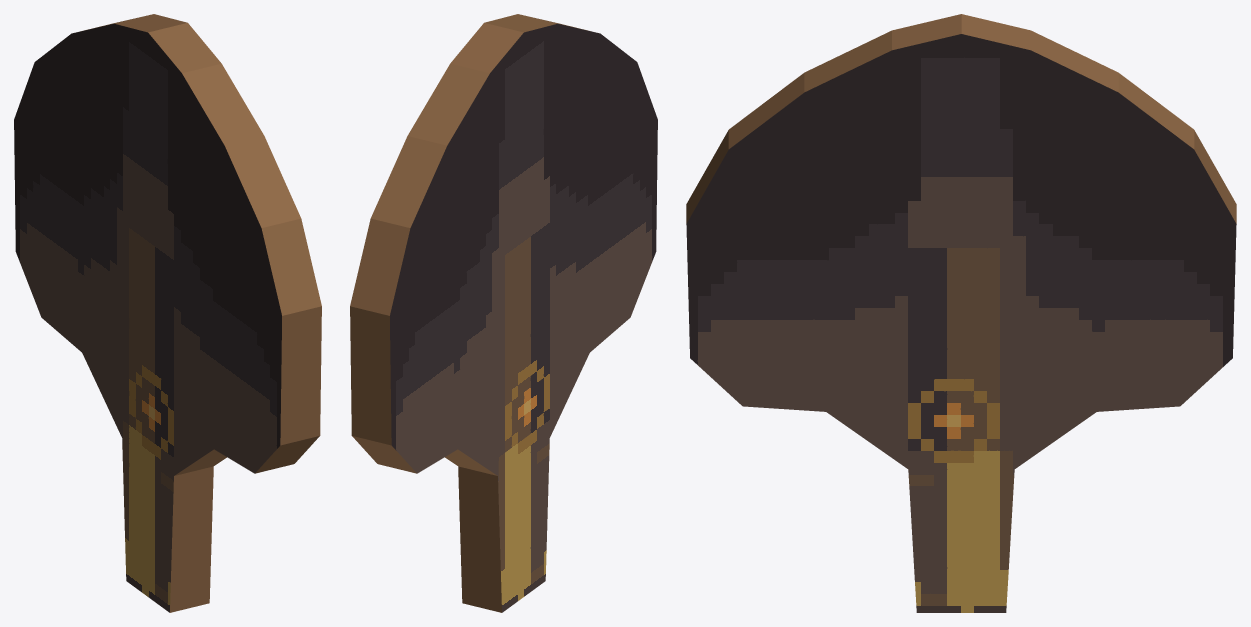
The model's file is shovel_head.obj.
3 views of the same model, side by side, from view 1: azimuth 30°, elevation 25°; view 2: azimuth 150°, elevation 25°; view 3: azimuth 270°, elevation 25° (orthographic). The views are drawn at different scales.
Parts seen in each view (by area): view 1: geometry; view 2: geometry; view 3: geometry.
Part boxes in pixels (x1=…): geometry: x1=14, y1=14, x2=321, y2=612; geometry: x1=350, y1=14, x2=657, y2=612; geometry: x1=686, y1=14, x2=1236, y2=612.
Size of the model in its own units: 0.0488 by 0.6606 by 0.5688.
